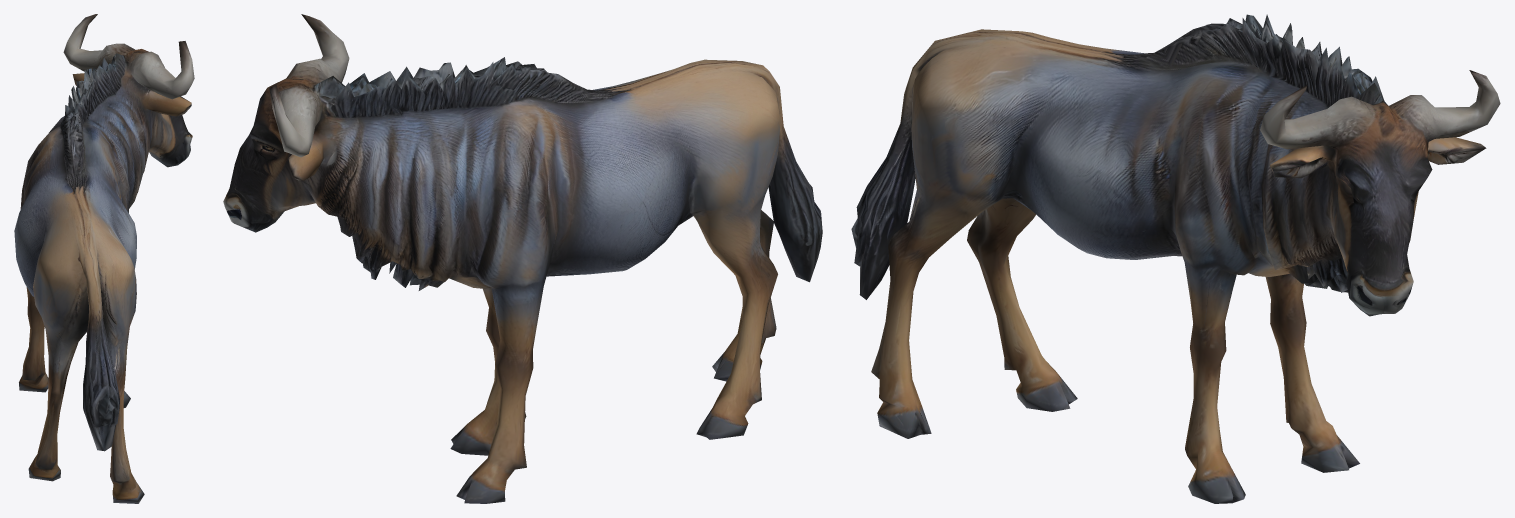
Rendered from wildebeest.glb.
The picture shows the model from 3 angles, left to right: view 1: azimuth 30°, elevation 25°; view 2: azimuth 150°, elevation 25°; view 3: azimuth 270°, elevation 25°; orthographic projection. The views are drawn at different scales.
Visible parts, largest first — view 1: tripo_node_0237eb59-49d5-4cac-b658-e7ea8111215d; view 2: tripo_node_0237eb59-49d5-4cac-b658-e7ea8111215d; view 3: tripo_node_0237eb59-49d5-4cac-b658-e7ea8111215d.
Part boxes in pixels (box(x1,y1,x2,y2)): tripo_node_0237eb59-49d5-4cac-b658-e7ea8111215d: box(14, 14, 194, 503); tripo_node_0237eb59-49d5-4cac-b658-e7ea8111215d: box(223, 14, 822, 503); tripo_node_0237eb59-49d5-4cac-b658-e7ea8111215d: box(851, 14, 1500, 503).
Bounding box in the file's own units: 0.7421 × 0.8218 × 1.
Materials: 1 (1 with a texture image).
